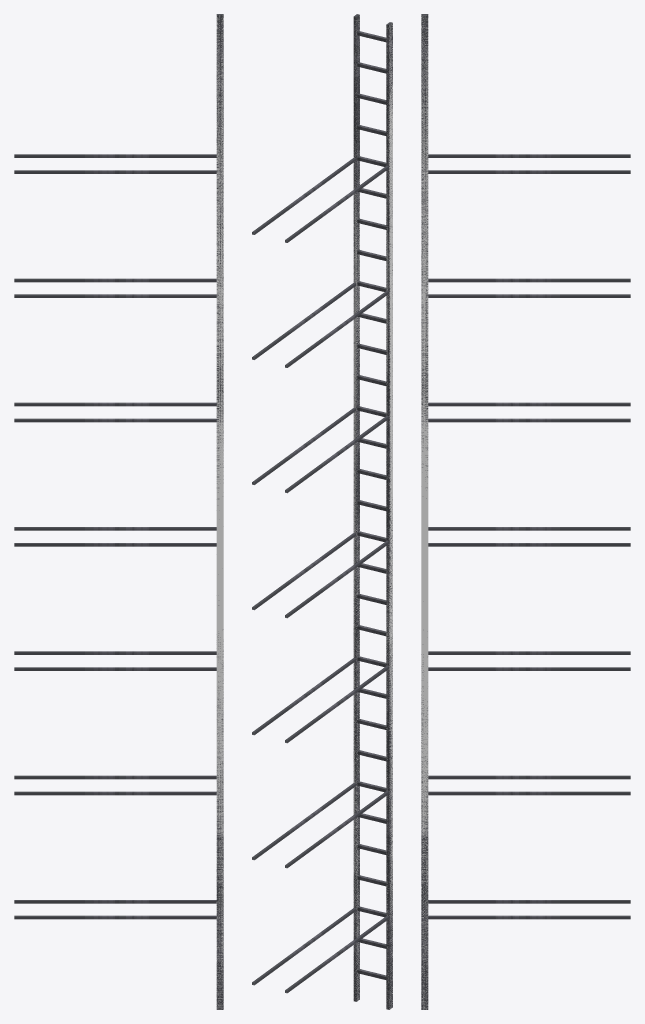
The model's file is objects_un_ladder_1500_01.gltf.
3 renders of one model, left to right at view 1: azimuth 90°, elevation 25°; view 2: azimuth 150°, elevation 25°; view 3: azimuth 270°, elevation 25°, orthographic.
Visible parts, largest first — view 1: um_objects_un_ladder_1500_01_model_lod0Shape:objects_un_ladd (×2); view 2: um_objects_un_ladder_1500_01_model_lod0Shape:objects_un_ladd (×2); view 3: um_objects_un_ladder_1500_01_model_lod0Shape:objects_un_ladd (×2).
Part boxes in pixels (x1,y1,x2,y2): um_objects_un_ladder_1500_01_model_lod0Shape:objects_un_ladd (×2): [14, 14, 223, 1009]; um_objects_un_ladder_1500_01_model_lod0Shape:objects_un_ladd (×2): [252, 14, 392, 1009]; um_objects_un_ladder_1500_01_model_lod0Shape:objects_un_ladd (×2): [421, 14, 630, 1009].
Size of the model in its own units: 0.6 by 15.75 by 3.05.
Materials: 2 (1 with a texture image).
